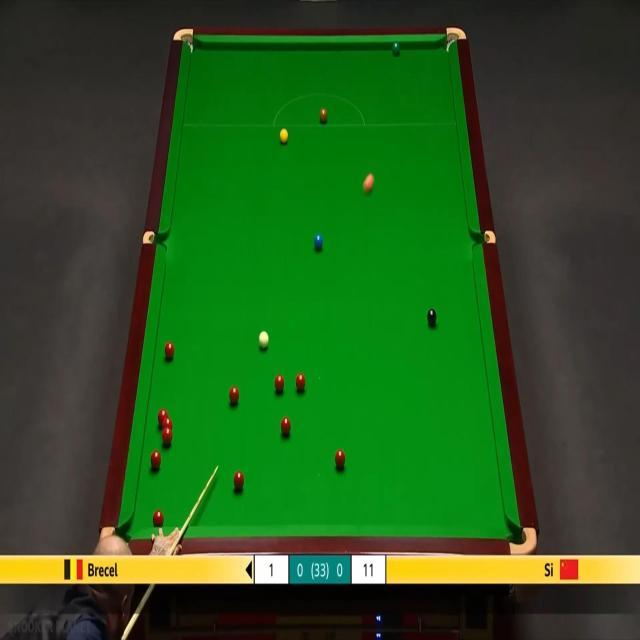Ball: (150, 449, 162, 472), (233, 470, 244, 492), (258, 330, 270, 350), (334, 450, 346, 470), (280, 418, 292, 438), (362, 174, 374, 193), (152, 510, 164, 527), (164, 340, 174, 360), (274, 374, 284, 394), (162, 427, 172, 446), (296, 374, 306, 392), (427, 308, 437, 326), (229, 386, 239, 404), (158, 409, 168, 426), (314, 236, 324, 252), (162, 418, 173, 432), (280, 128, 288, 143), (392, 41, 400, 56), (319, 110, 328, 122)
